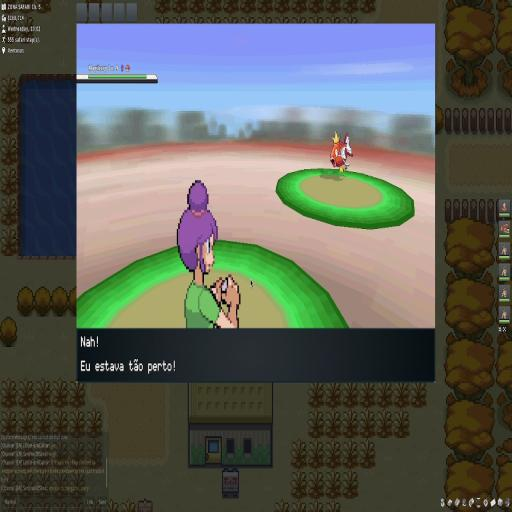MAGIKARP: (329, 131, 354, 175)
